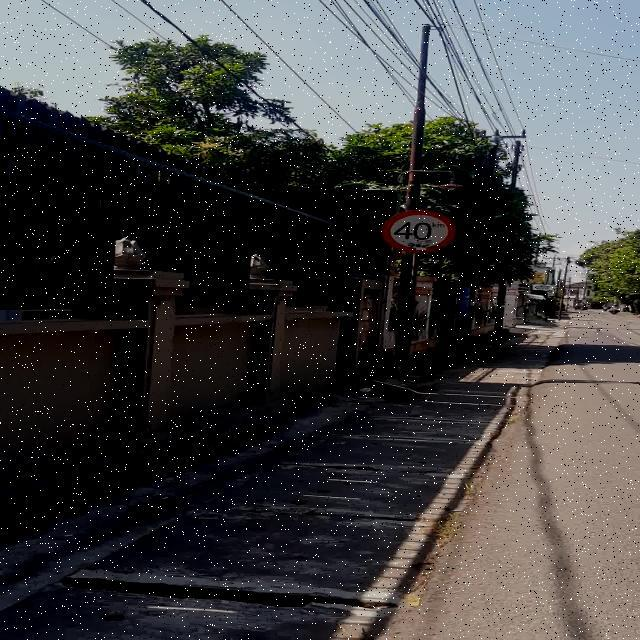Kecepatan Maks. 40 km: (381, 210, 456, 253)
